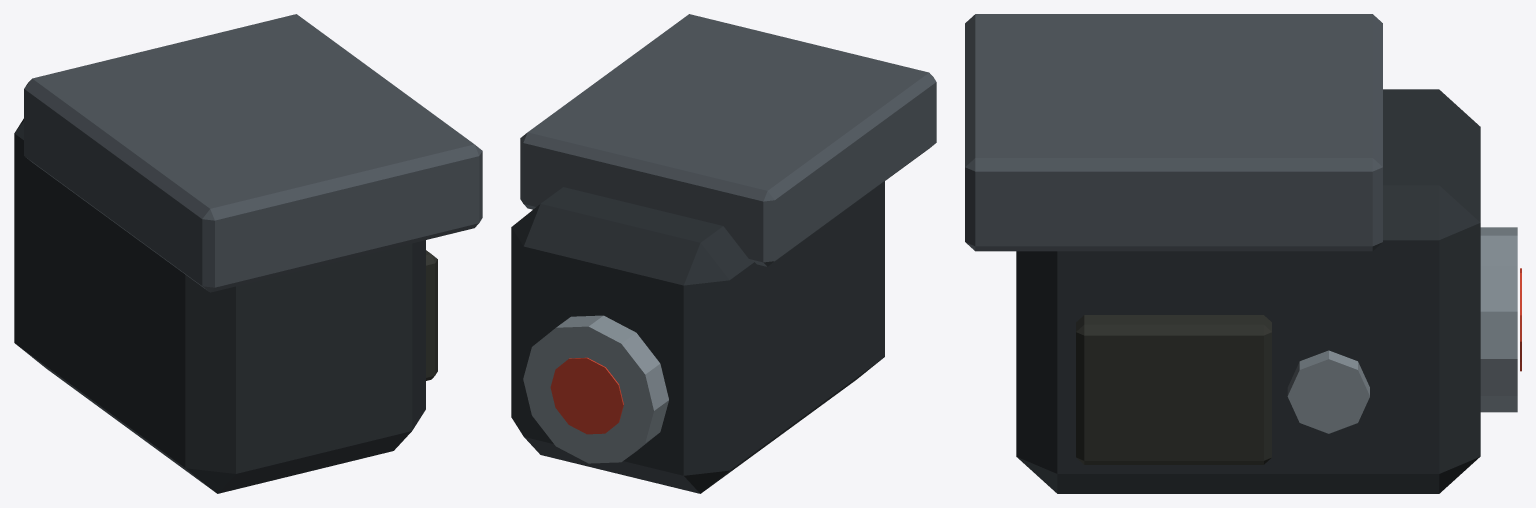
File: att_laser_trigger.glb
3 renders of one model, left to right at view 1: azimuth 30°, elevation 25°; view 2: azimuth 150°, elevation 25°; view 3: azimuth 270°, elevation 25°, orthographic. The views are drawn at different scales.
Parts seen in each view (by area): view 1: Geometry_att_laser_trigger; view 2: Geometry_att_laser_trigger; view 3: Geometry_att_laser_trigger.
Part boxes in pixels (left/top/right/bottom): Geometry_att_laser_trigger: left=14, top=14, right=482, bottom=493; Geometry_att_laser_trigger: left=511, top=14, right=936, bottom=493; Geometry_att_laser_trigger: left=965, top=14, right=1521, bottom=493.
Size of the model in its own units: 0.0355 by 0.0385 by 0.054.
